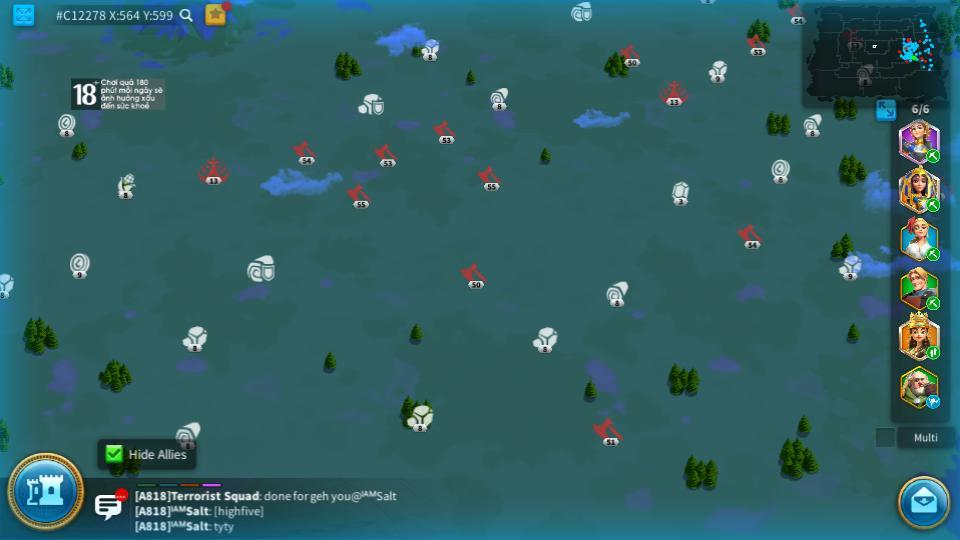gem-z-out: (671, 182, 691, 204)
march_idle: (925, 396, 942, 408)
march_marching: (925, 196, 941, 211), (925, 345, 941, 359), (925, 150, 942, 162), (925, 297, 942, 308)
